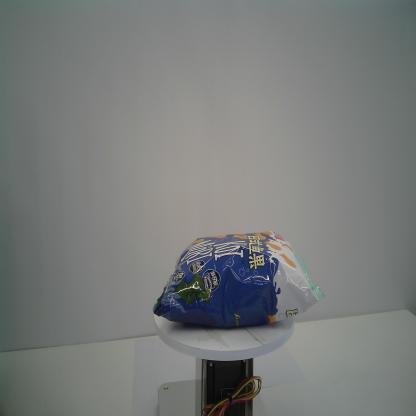Puffed Food: (152, 230, 326, 328)
